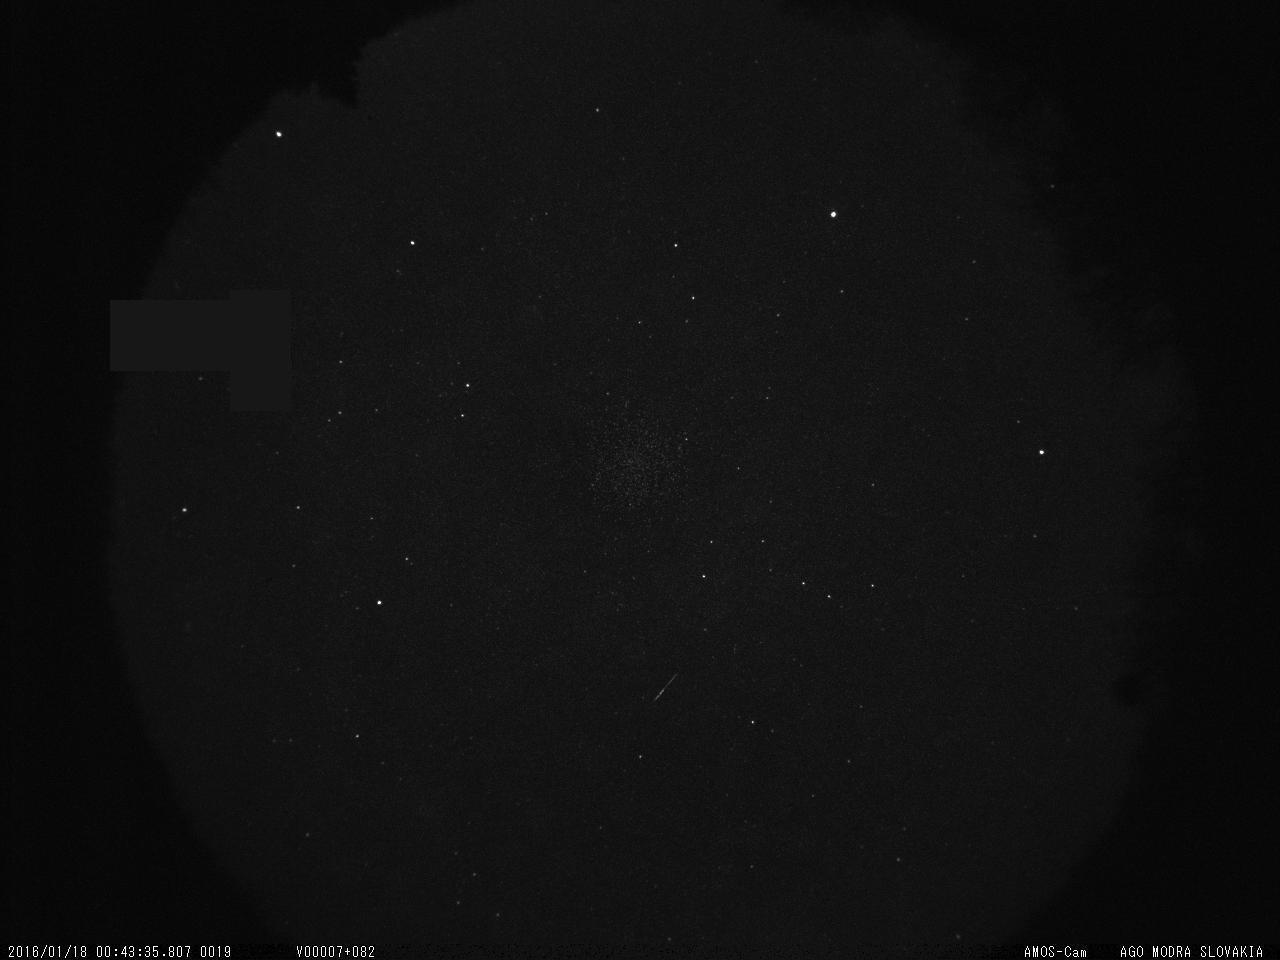Meteor: (642, 667, 687, 716)
